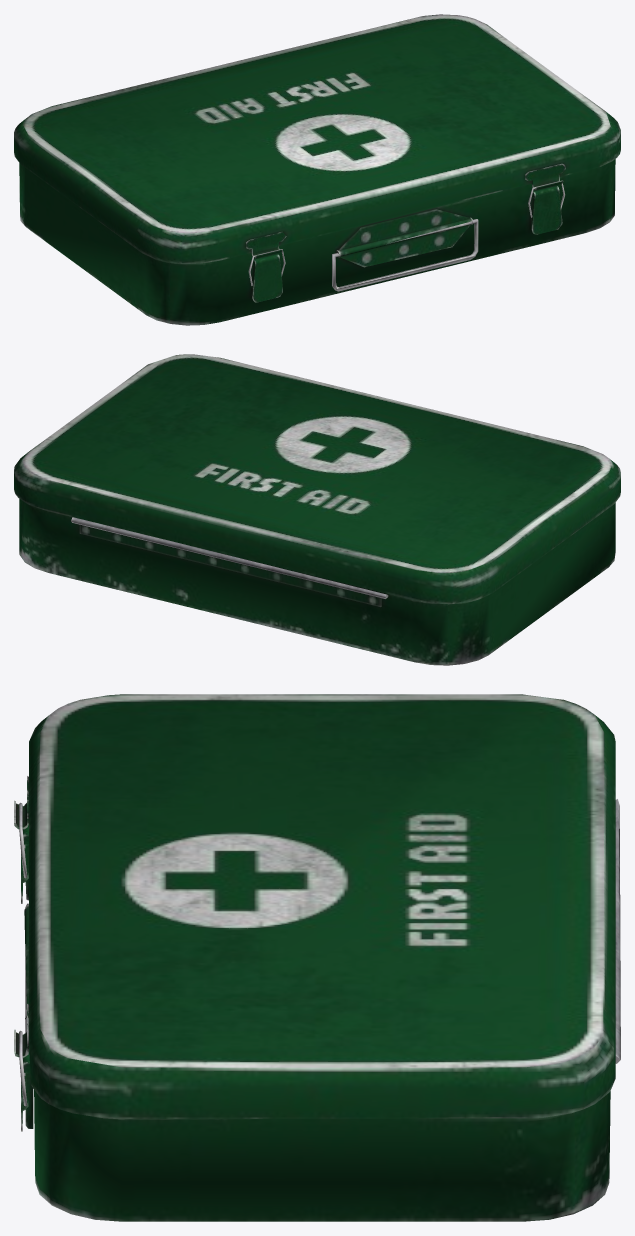
Rendered from medical_box.glb.
3 renders of one model, top to bottom at view 1: azimuth 30°, elevation 25°; view 2: azimuth 150°, elevation 25°; view 3: azimuth 270°, elevation 25°, orthographic. The views are drawn at different scales.
Visible parts, largest first — view 1: medical_box_lid, medical_box, medical_box_latch, medical_box_handle; view 2: medical_box_lid, medical_box; view 3: medical_box_lid, medical_box.
Part boxes in pixels (x1,y1,x2,y2): medical_box_lid: (14, 14, 620, 263); medical_box: (19, 159, 615, 325); medical_box_latch: (251, 186, 562, 302); medical_box_handle: (332, 219, 478, 291); medical_box_lid: (14, 354, 620, 603); medical_box: (19, 499, 615, 665); medical_box_lid: (14, 694, 615, 1119); medical_box: (24, 799, 620, 1221).
Size of the model in its own units: 0.5255 by 0.0967 by 0.3501.
5 materials, 5 textured.
